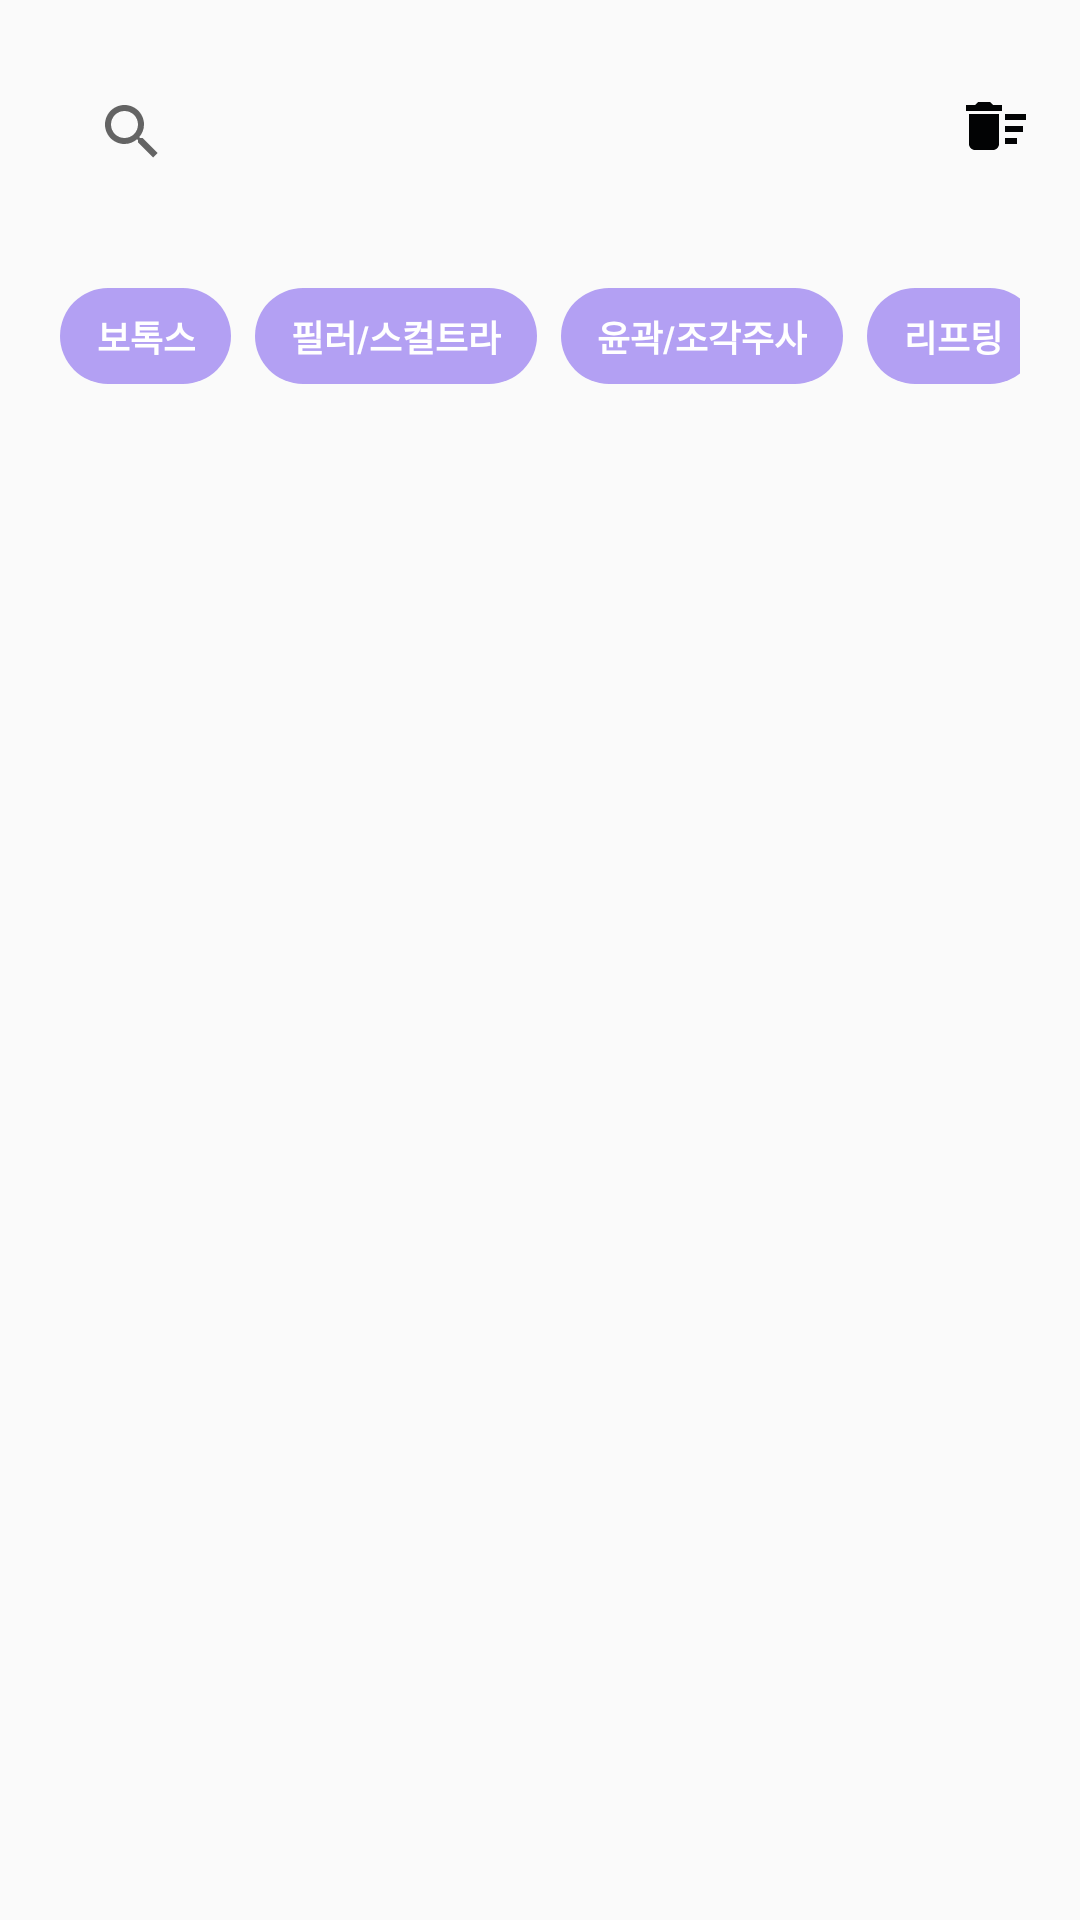

Icon bounding boxes for this 1080px×1920px phone screenshot, format (x1, y1, x2, y2):
delete sweep: (966, 102, 1026, 150)
